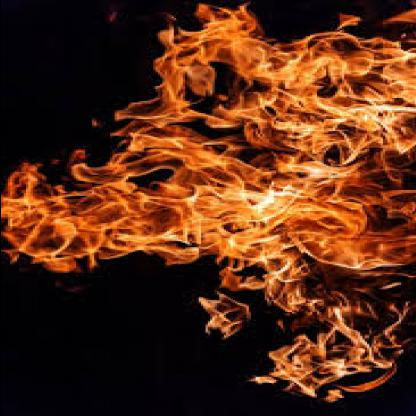Fire: (178, 33, 404, 267)
